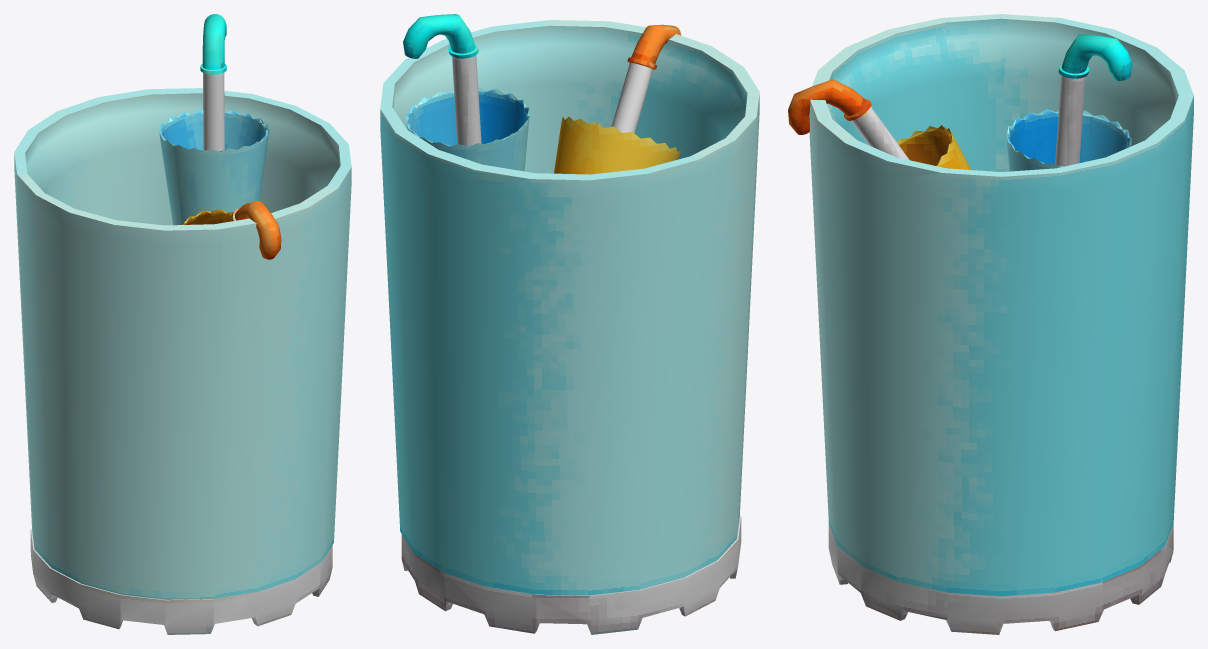
The model's file is umbrella_stand.glb.
3 renders of one model, left to right at view 1: azimuth 30°, elevation 25°; view 2: azimuth 150°, elevation 25°; view 3: azimuth 270°, elevation 25°, orthographic. The views are drawn at different scales.
Parts seen in each view (by area): view 1: mesh; view 2: mesh; view 3: mesh.
Part boxes in pixels (bbox=[...]): mesh: bbox=[14, 14, 351, 634]; mesh: bbox=[380, 14, 759, 634]; mesh: bbox=[788, 14, 1193, 634].
Size of the model in its own units: 0.5456 by 0.89 by 0.5747.
Materials: 1 (1 with a texture image).
